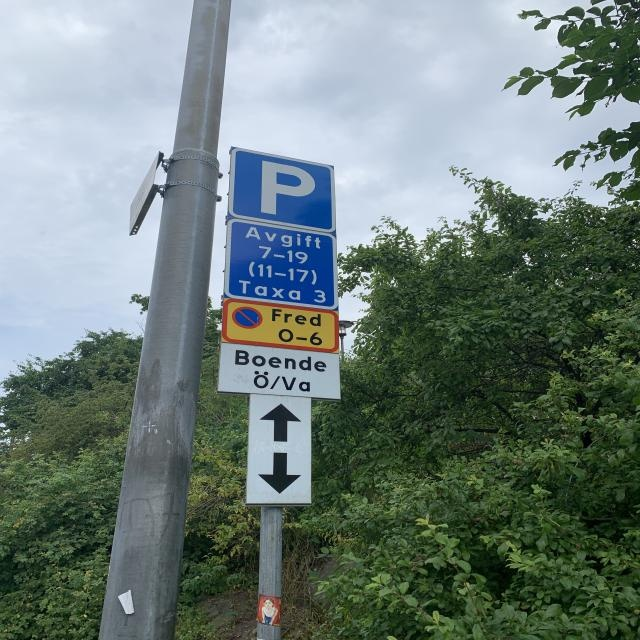P-skylt: (227, 144, 339, 235)
